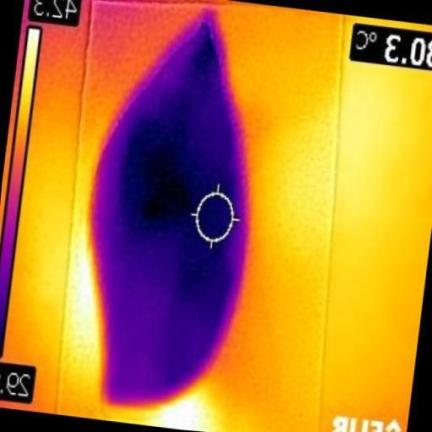mango: (94, 17, 249, 405)
